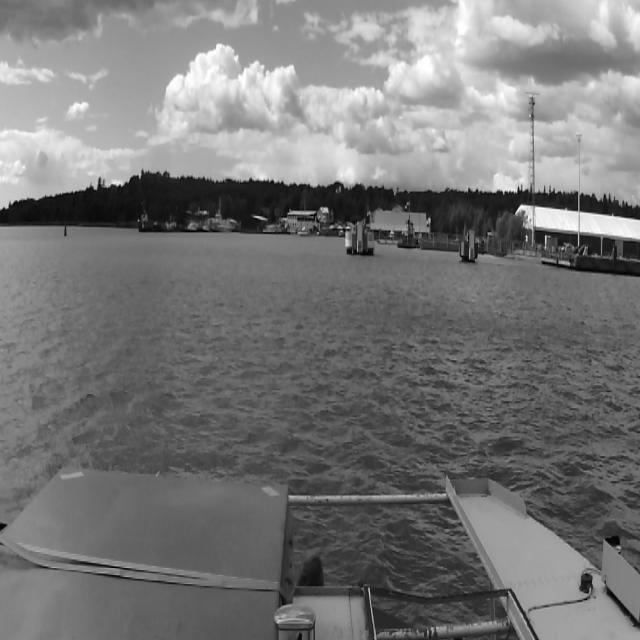buoy: (63, 222, 67, 236)
ship: (201, 207, 237, 232), (396, 215, 418, 251), (162, 216, 178, 229), (184, 220, 200, 232), (388, 230, 394, 240)
